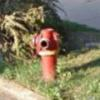a fire hydrant: (30, 29, 70, 82)
